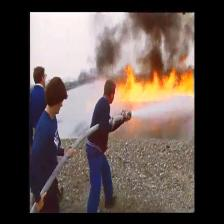fire: (117, 76, 192, 98)
smoke: (146, 7, 191, 69)
